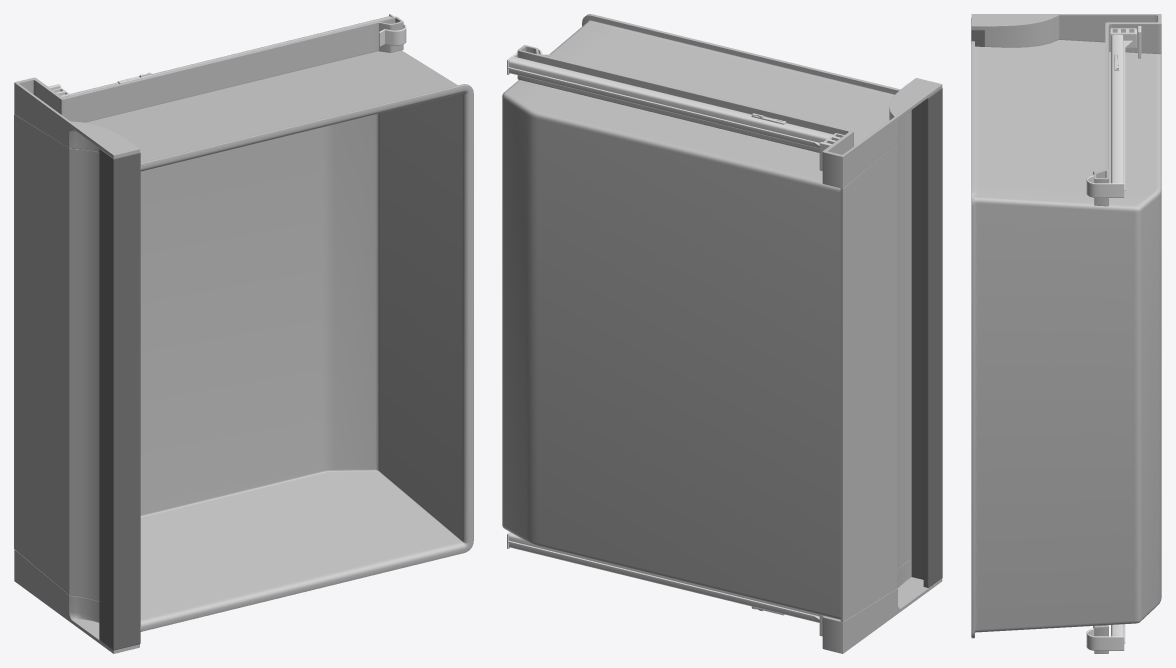
File: SM_Fridge_Drawer_01.obj
3 renders of one model, left to right at view 1: azimuth 30°, elevation 25°; view 2: azimuth 150°, elevation 25°; view 3: azimuth 270°, elevation 25°, orthographic. The views are drawn at different scales.
Visible parts, largest first — view 1: SM_Fridge_Drawer_01_SM_Fridge_Drawer_01_001; view 2: SM_Fridge_Drawer_01_SM_Fridge_Drawer_01_001; view 3: SM_Fridge_Drawer_01_SM_Fridge_Drawer_01_001.
Boxes of the visible parts, x1=… form: SM_Fridge_Drawer_01_SM_Fridge_Drawer_01_001: x1=14, y1=14, x2=473, y2=653; SM_Fridge_Drawer_01_SM_Fridge_Drawer_01_001: x1=502, y1=14, x2=942, y2=653; SM_Fridge_Drawer_01_SM_Fridge_Drawer_01_001: x1=971, y1=14, x2=1161, y2=653.
Size of the model in its own units: 0.3436 by 0.4543 by 0.165.
Materials: 3 (2 with a texture image).
